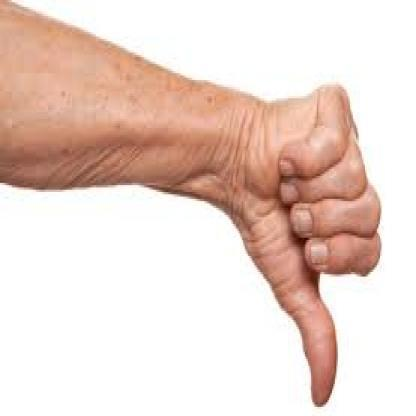thumb_down: (247, 78, 382, 406)
